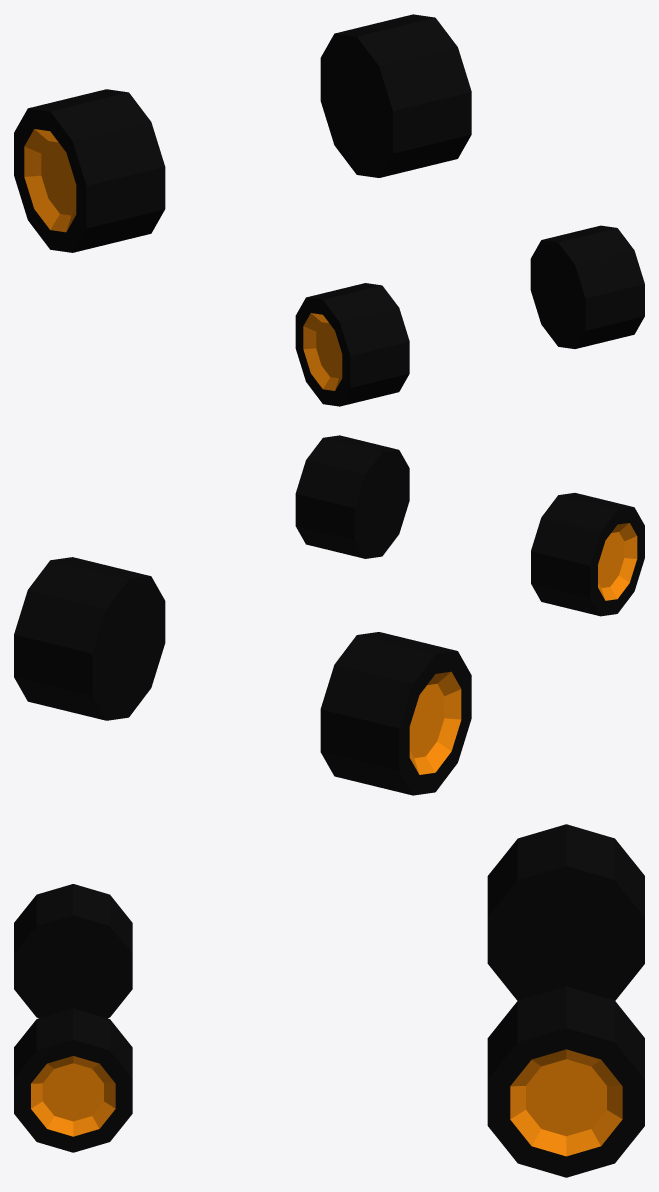
The model's file is Wheels1.obj.
3 views of the same model, one above another, from view 1: azimuth 30°, elevation 25°; view 2: azimuth 150°, elevation 25°; view 3: azimuth 270°, elevation 25° (orthographic). The views are drawn at different scales.
Parts seen in each view (by area): view 1: Wheels1_Cylinder.004; view 2: Wheels1_Cylinder.004; view 3: Wheels1_Cylinder.004.
Part boxes in pixels (x1,y1,x2,y2): Wheels1_Cylinder.004: [14, 14, 644, 406]; Wheels1_Cylinder.004: [14, 435, 644, 795]; Wheels1_Cylinder.004: [14, 824, 644, 1177].
Bounding box in the file's own units: 8.35 × 2.86 × 10.92.
